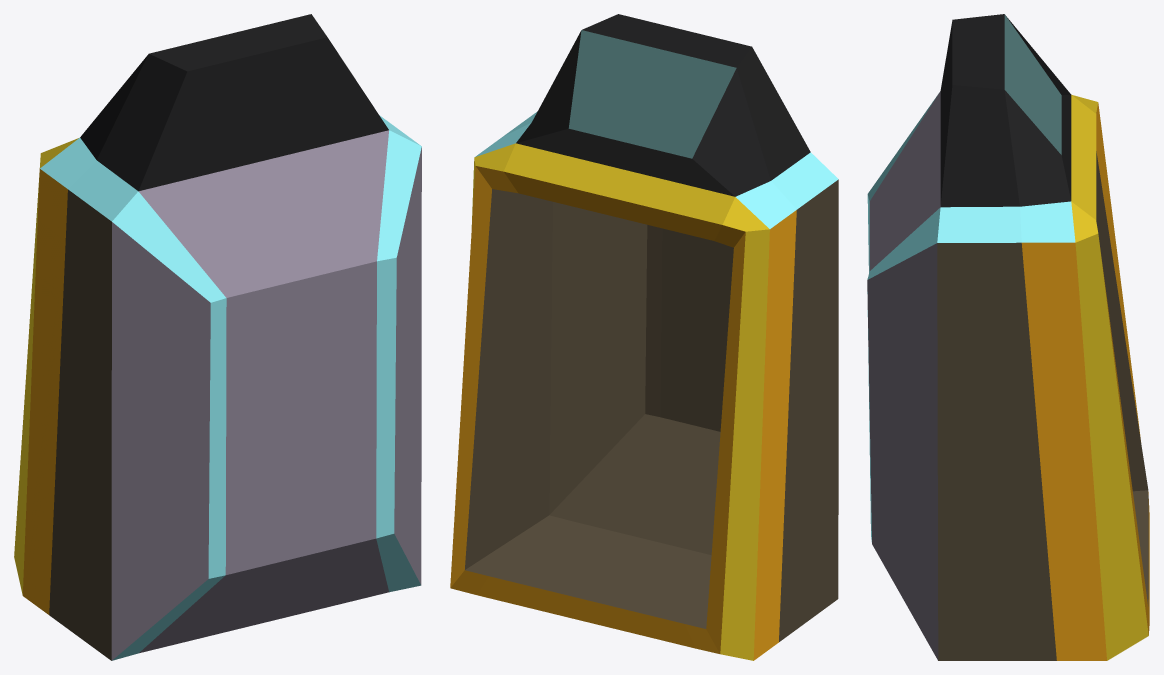
The model's file is Harvester.fbx.
The picture shows the model from 3 angles, left to right: view 1: azimuth 30°, elevation 25°; view 2: azimuth 150°, elevation 25°; view 3: azimuth 270°, elevation 25°; orthographic projection. The views are drawn at different scales.
Visible parts, largest first — view 1: Cube; view 2: Cube; view 3: Cube.
Boxes of the visible parts, x1,y1,x2,y2 form: Cube: (14,14,421,660); Cube: (450,14,838,660); Cube: (867,14,1149,660).
Size of the model in its own units: 1.4 by 1.16 by 2.44.
